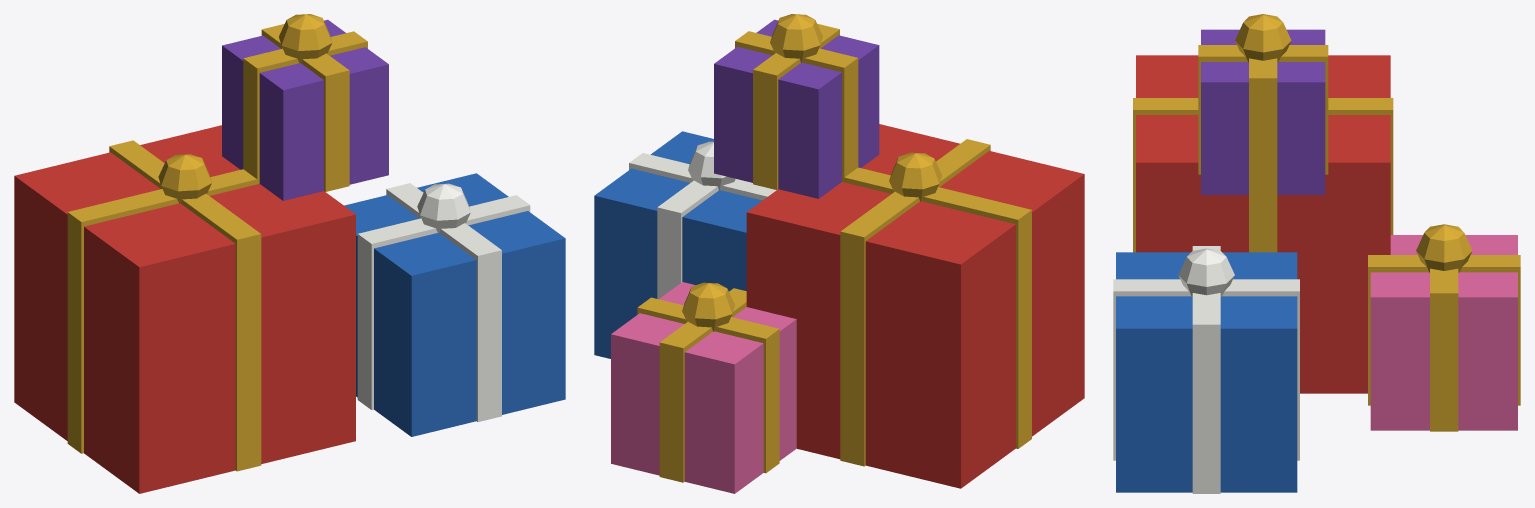
Rendered from gifts.glb.
3 renders of one model, left to right at view 1: azimuth 30°, elevation 25°; view 2: azimuth 150°, elevation 25°; view 3: azimuth 270°, elevation 25°, orthographic. The views are drawn at different scales.
Parts seen in each view (by area): view 1: gifts; view 2: gifts; view 3: gifts.
Part boxes in pixels (x1,y1,x2,y2): gifts: (14,14,565,493); gifts: (594,14,1084,493); gifts: (1113,14,1520,493).
Bounding box in the file's own units: 0.875 × 0.75 × 0.72.
